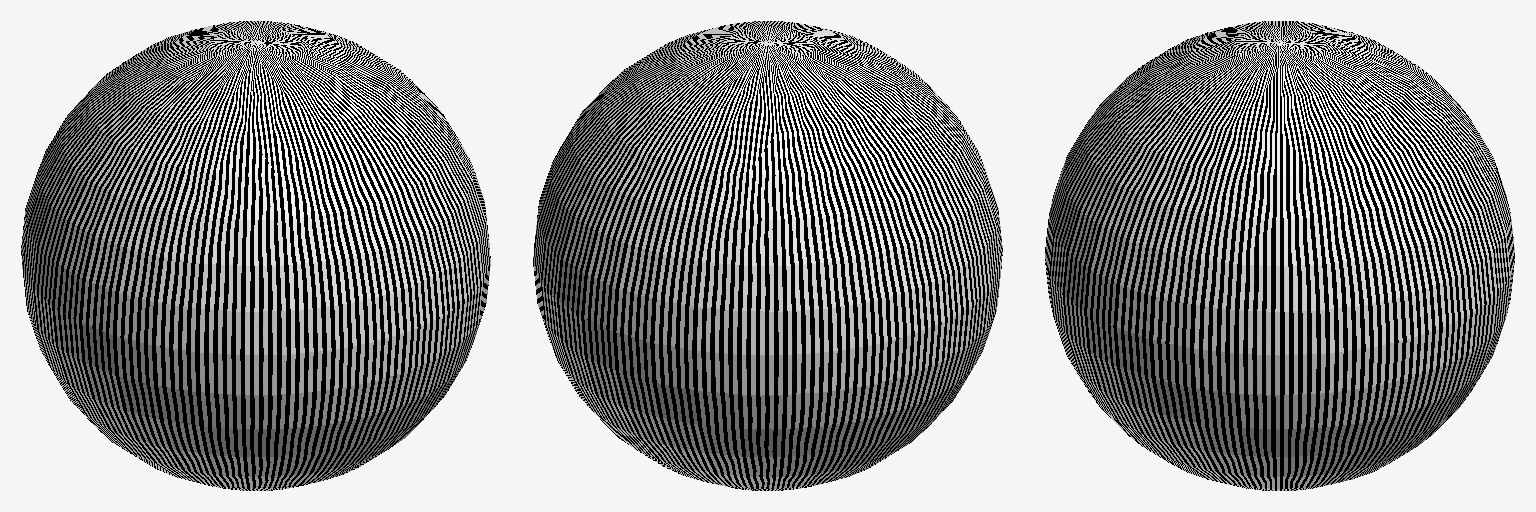
3 views of the same model, side by side, from view 1: azimuth 30°, elevation 25°; view 2: azimuth 150°, elevation 25°; view 3: azimuth 270°, elevation 25° (orthographic).
Visible parts, largest first — view 1: Sphere; view 2: Sphere; view 3: Sphere.
Boxes of the visible parts, x1=… form: Sphere: x1=21, y1=21, x2=490, y2=490; Sphere: x1=533, y1=21, x2=1002, y2=490; Sphere: x1=1045, y1=21, x2=1514, y2=490.
Size of the model in its own units: 3.43 by 3.43 by 3.43.
1 materials, 1 textured.